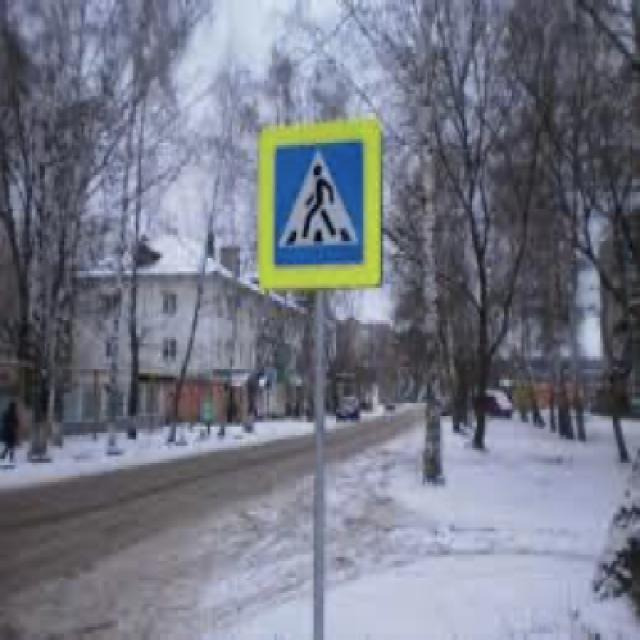crosswalk: (270, 143, 362, 264)
